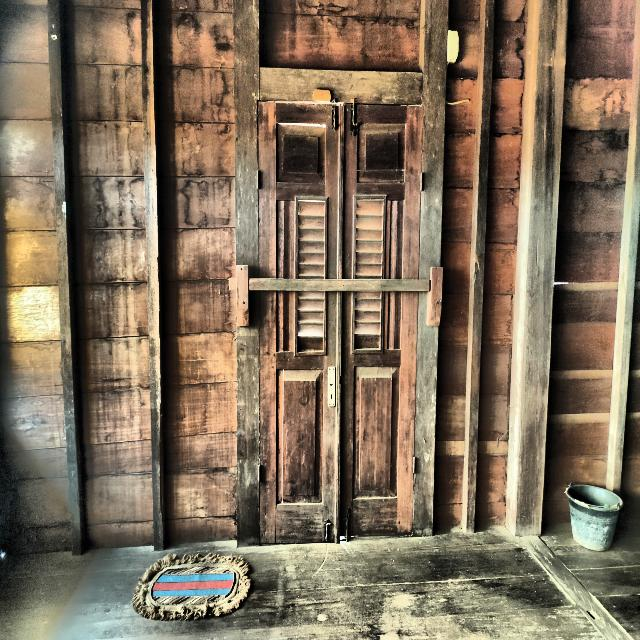door: (257, 98, 422, 547)
wall: (0, 0, 640, 554)
